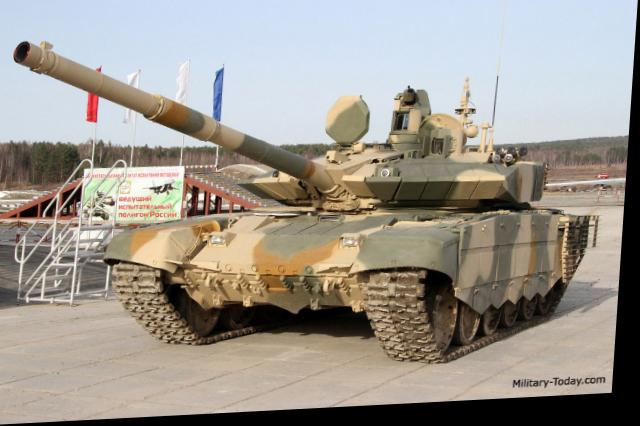tank: (130, 92, 592, 360)
